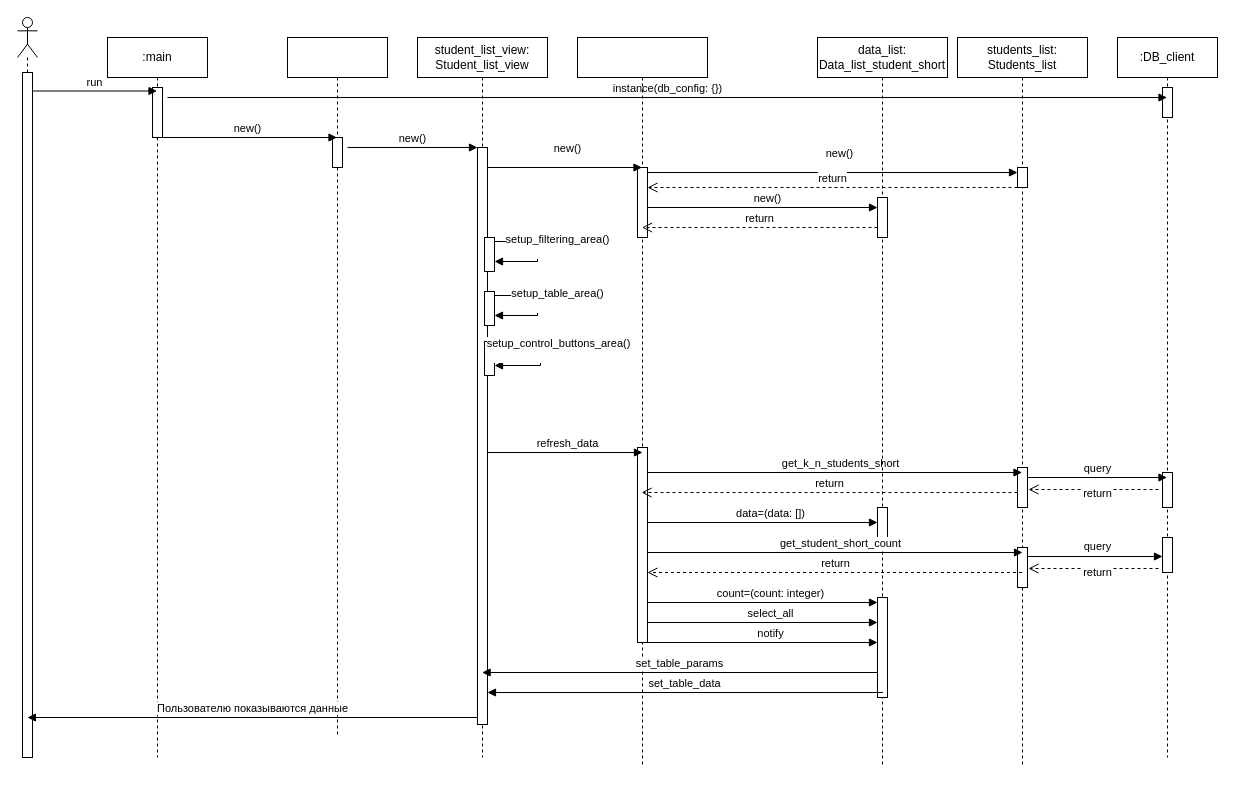
Image size: 1235x785. Some labels were removed from this diagram. Here are the shapes that lost their labels. From the top down, the box of each, then its label:
(286, 36, 388, 738): app:App
(576, 36, 708, 768): student_list_controller: Student_list_controller
